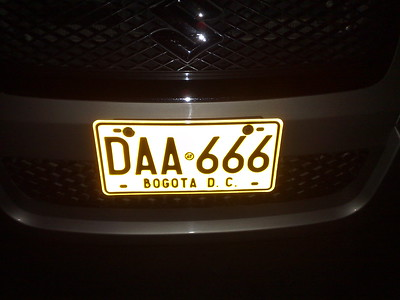placa_carro: (88, 113, 289, 199)
